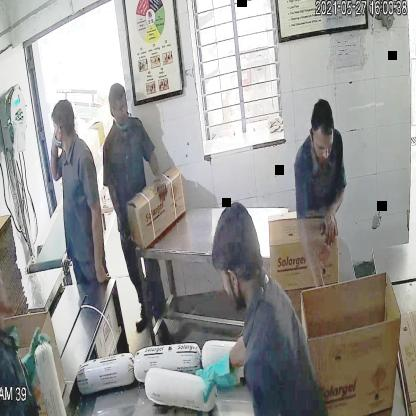no_goggles: (309, 133, 334, 156), (108, 101, 132, 117)
